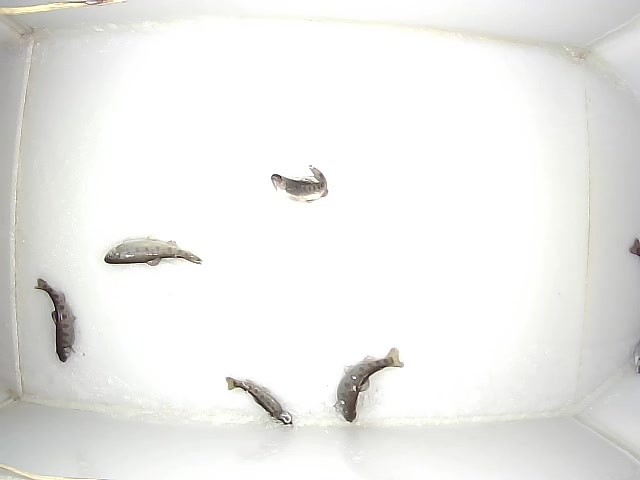fish: (332, 346, 404, 424), (34, 278, 76, 363), (225, 376, 292, 424), (104, 239, 203, 266), (270, 164, 327, 203)
